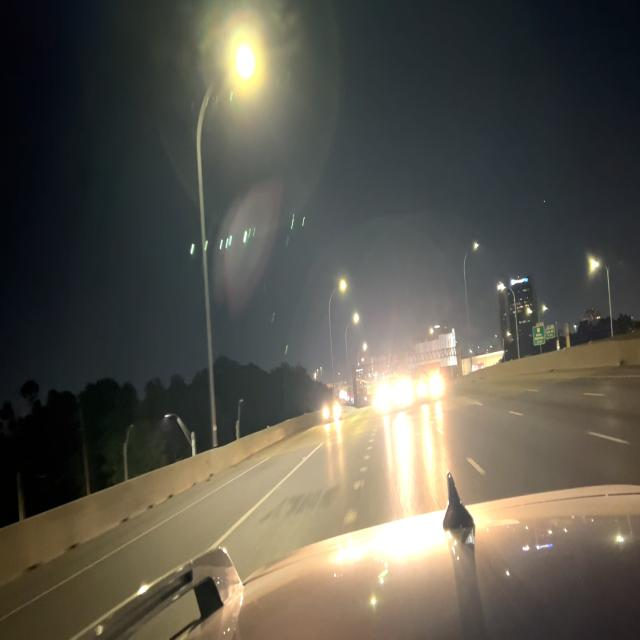back-of-sign: (413, 329, 458, 372)
